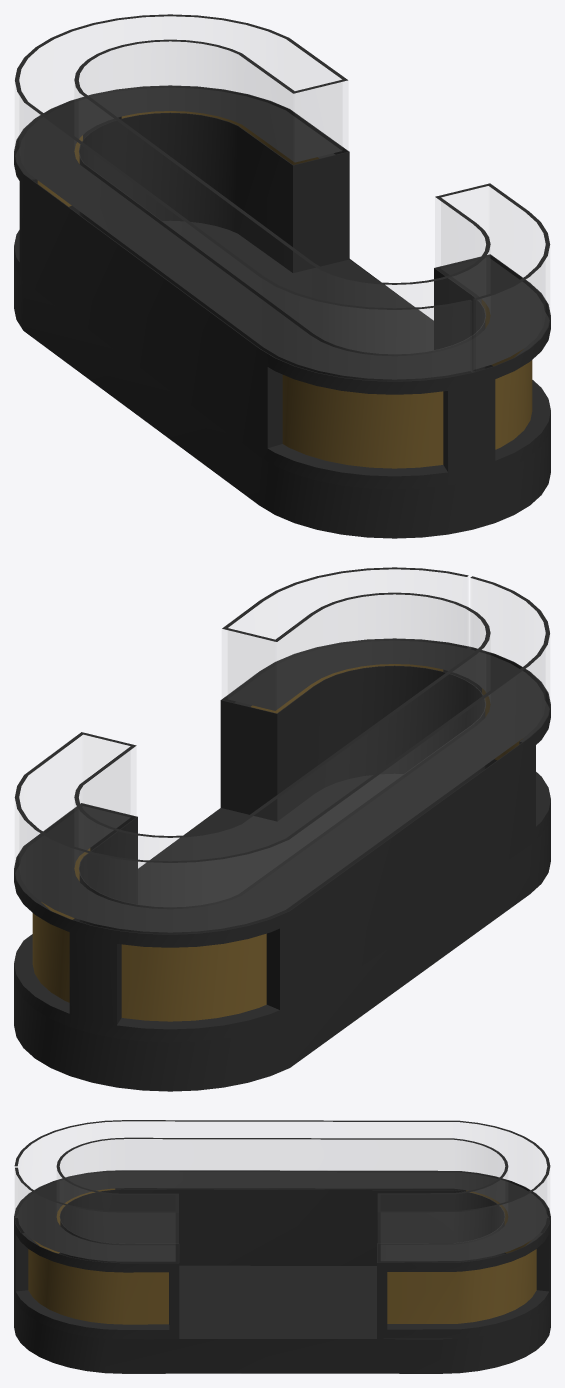
The model's file is center dissgn.fbx.
3 renders of one model, top to bottom at view 1: azimuth 30°, elevation 25°; view 2: azimuth 150°, elevation 25°; view 3: azimuth 270°, elevation 25°, orthographic. The views are drawn at different scales.
Visible parts, largest first — view 1: Cylinder_2, Cylinder_1, Cylinder; view 2: Cylinder_2, Cylinder_1, Cylinder; view 3: Cylinder_2, Cylinder_1, Cylinder.
Part boxes in pixels (x1,y1,x2,y2): Cylinder_2: (14,14,550,538); Cylinder_1: (19,42,545,355); Cylinder: (37,111,532,468); Cylinder_2: (14,567,550,1091); Cylinder_1: (19,595,545,908); Cylinder: (32,664,522,1021); Cylinder_2: (14,1120,550,1373); Cylinder_1: (15,1139,547,1244); Cylinder: (28,1188,536,1324).
Bounding box in the file's own units: 100 × 80.53 × 244.
